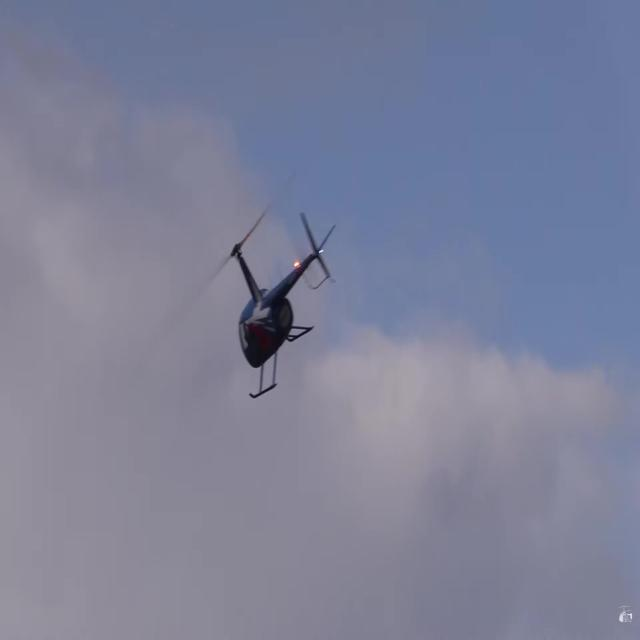CIV_HELO: (230, 212, 336, 400)
